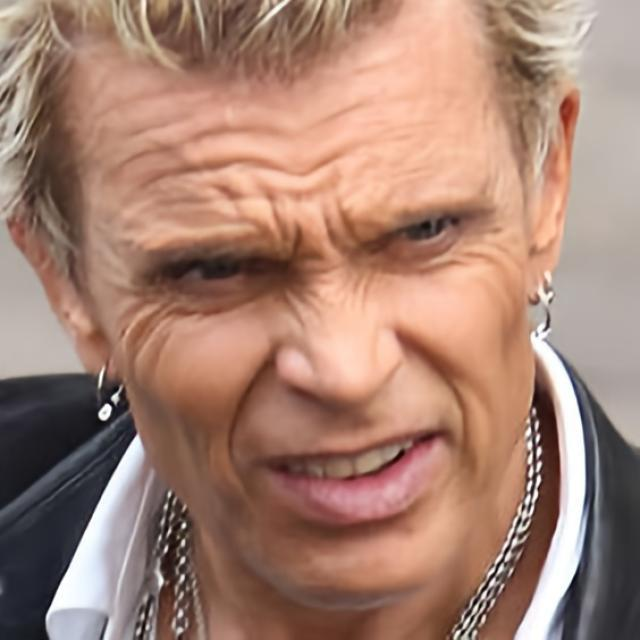disgust: (69, 0, 537, 612)
